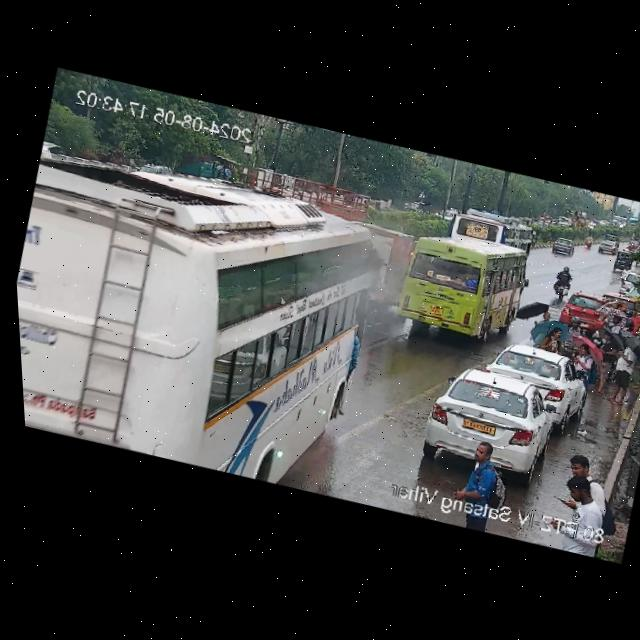bus: (8, 133, 404, 502), (389, 221, 540, 353), (446, 204, 540, 256)
car: (415, 358, 582, 489), (474, 336, 592, 415), (554, 287, 610, 331), (546, 234, 579, 258), (606, 247, 636, 272), (616, 269, 640, 296), (592, 236, 619, 257)
motorcycle: (547, 265, 580, 307), (584, 232, 595, 250)
person: (448, 438, 521, 510), (546, 451, 613, 529), (588, 330, 640, 409), (596, 299, 637, 342), (573, 337, 599, 377), (539, 318, 569, 351), (532, 310, 553, 327)
